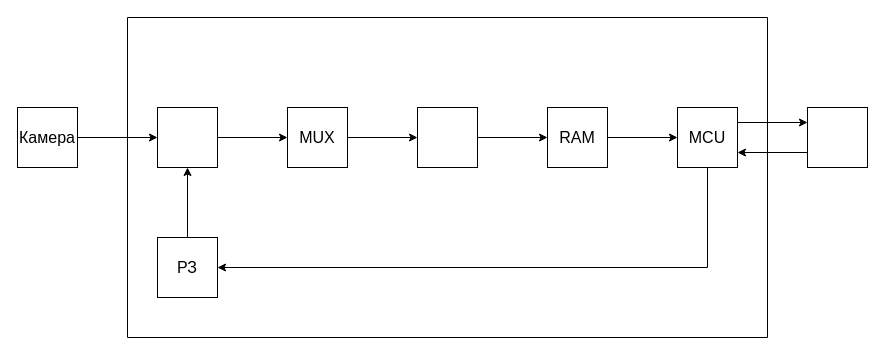
The diagram is 885 pixels wide and 356 high, and some of its shapes have lost their labels. Here are the shapes that lost their labels. From the top down, the centre of each, then its label:
At pixel 187 137: "МП".
At pixel 447 137: "АЦП".
At pixel 837 137: "РП".
